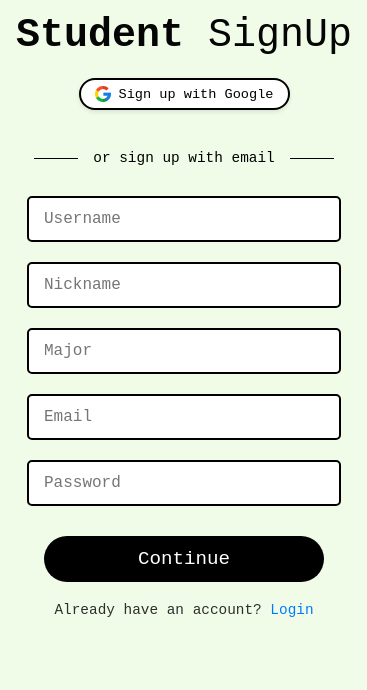
Scenario: displays error message on failed signup
Note: Simulate user input in all fields
Type "testuser" into the field with placeholder "Username" at (184, 219), box [27, 196, 341, 242]
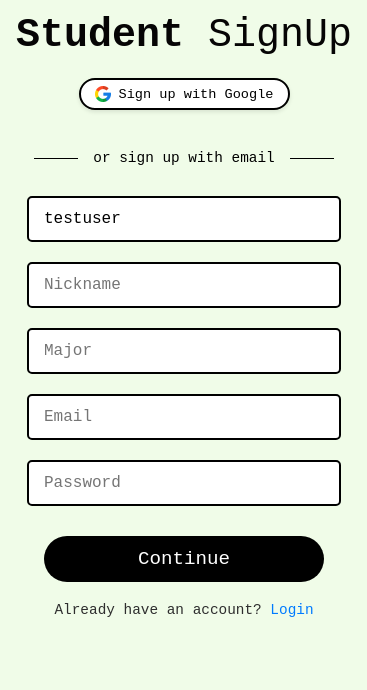
Type "testnick" into the field with placeholder "Nickname" at (184, 285), box [27, 262, 341, 308]
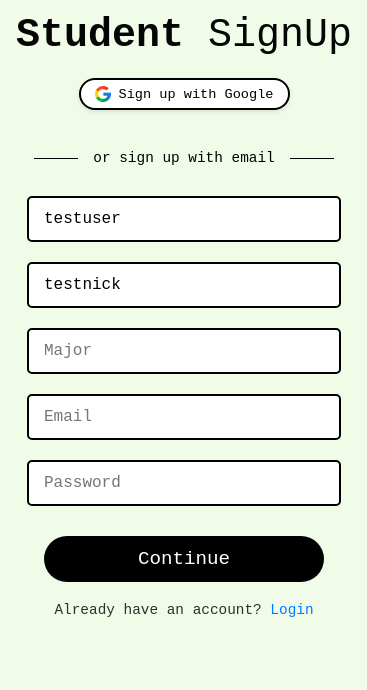
Type "Computer Science" into the field with placeholder "Major" at (184, 351), box [27, 328, 341, 374]
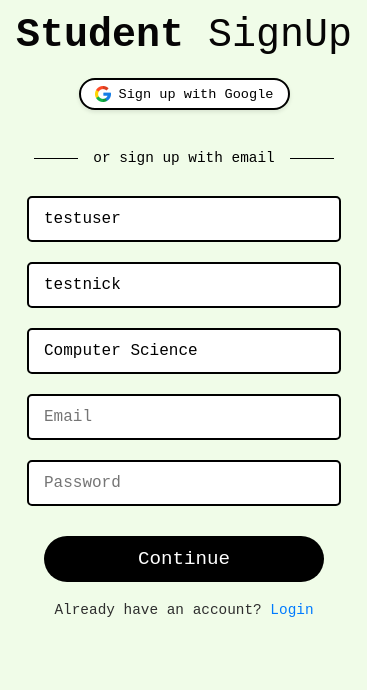
Type "test@example.com" into the field with placeholder "Email" at (184, 417), box [27, 394, 341, 440]
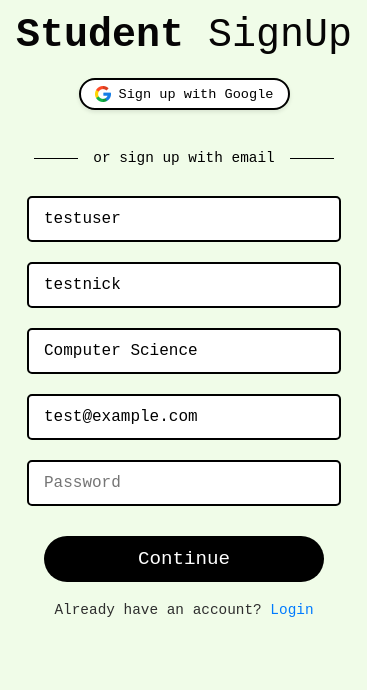
Type "password123" into the password field with placeholder "Password" at (184, 483), box [27, 460, 341, 506]
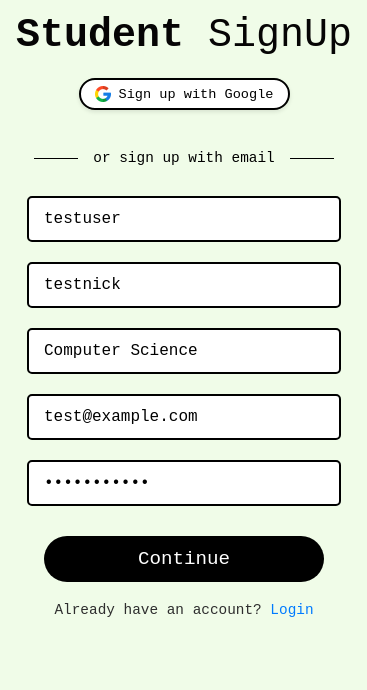
Note: Simulate clicking the "Continue" button
Click the button "Continue" at (184, 559), box [44, 536, 324, 582]
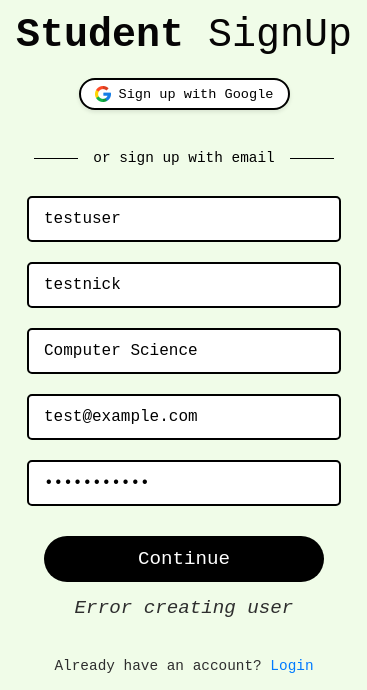
Result: the text "Error creating user" is shown at [75, 597, 293, 619]
